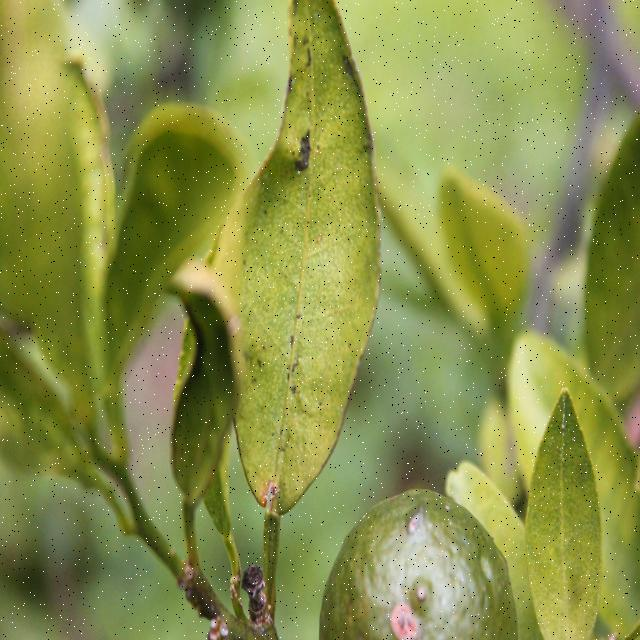blackspot: (238, 269, 364, 461)
